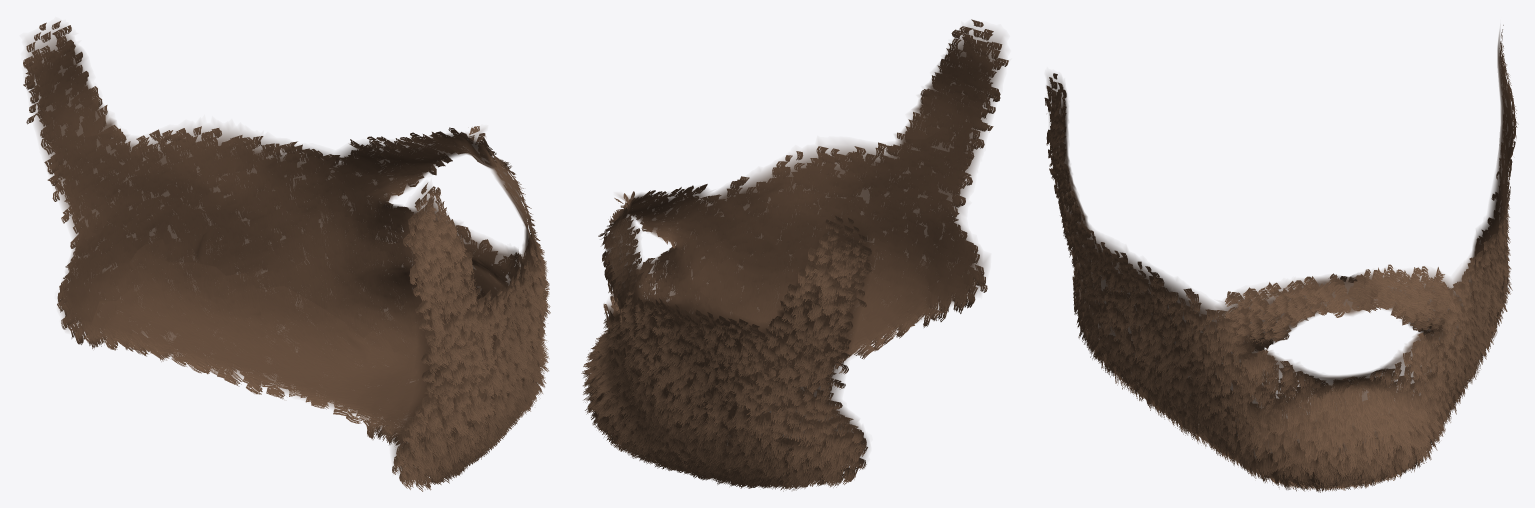
File: beard-m1-boxed.glb
3 renders of one model, left to right at view 1: azimuth 30°, elevation 25°; view 2: azimuth 150°, elevation 25°; view 3: azimuth 270°, elevation 25°, orthographic. The views are drawn at different scales.
Visible parts, largest first — view 1: Beard_m1_boxed_root, Beard_m1_boxed_cards; view 2: Beard_m1_boxed_cards, Beard_m1_boxed_root; view 3: Beard_m1_boxed_cards, Beard_m1_boxed_root.
Boxes of the visible parts, left/top/right/bottom form: Beard_m1_boxed_root: left=26, top=24, right=539, bottom=473; Beard_m1_boxed_cards: left=23, top=21, right=550, bottom=491; Beard_m1_boxed_cards: left=581, top=19, right=1008, bottom=491; Beard_m1_boxed_root: left=595, top=24, right=1004, bottom=475; Beard_m1_boxed_cards: left=1044, top=25, right=1518, bottom=492; Beard_m1_boxed_root: left=1047, top=30, right=1513, bottom=473.
Bounding box in the file's own units: 0.1354 × 0.1321 × 0.1572.
2 materials, 1 textured.
